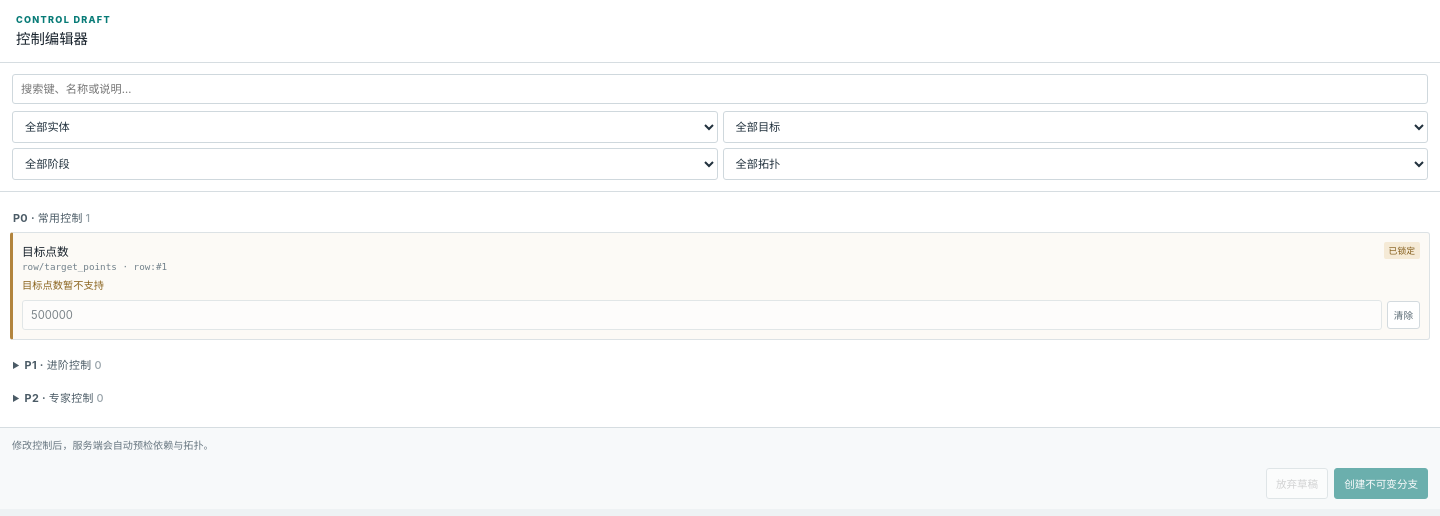
停用控制允许清除显式继承值，清除后依然禁止设置
Expected: the field named "row/target_points · row:#1" is disabled, 22,300 -> 1382,330
What coordinates should you click on to do the following:
click the button "清除"
I would click on:
 (1403, 315)
Its box is 1387,301 -> 1420,329.
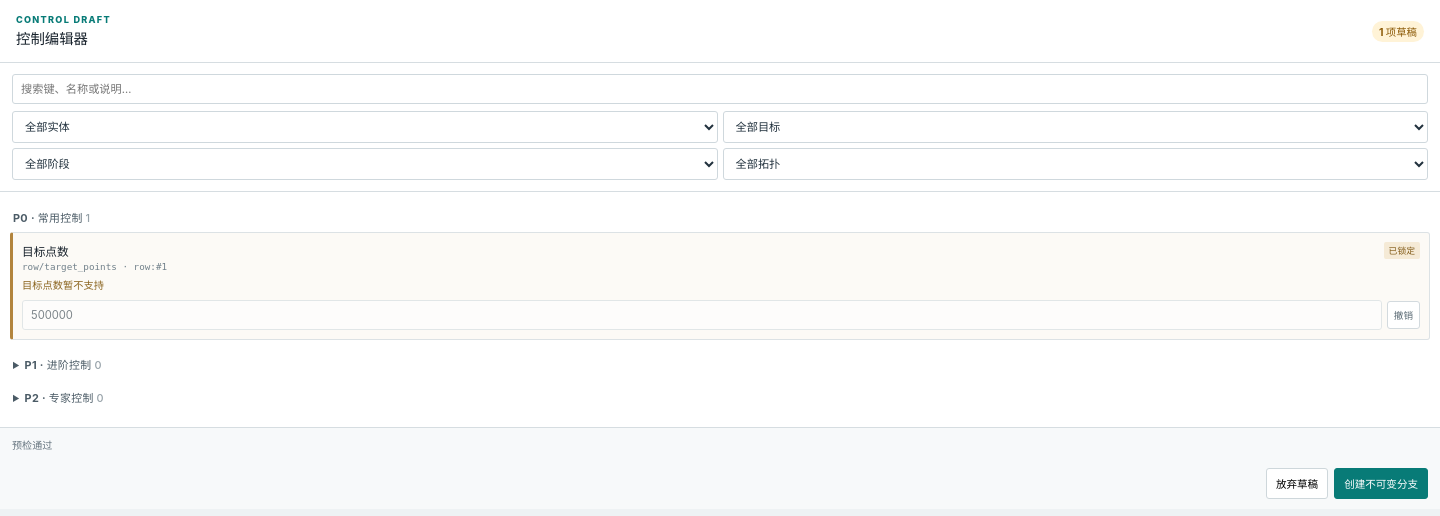
Expected: the field named "row/target_points · row:#1" is disabled, 22,300 -> 1382,330
Now the button "创建不可变分支" is enabled, box 1334,468 -> 1428,499
